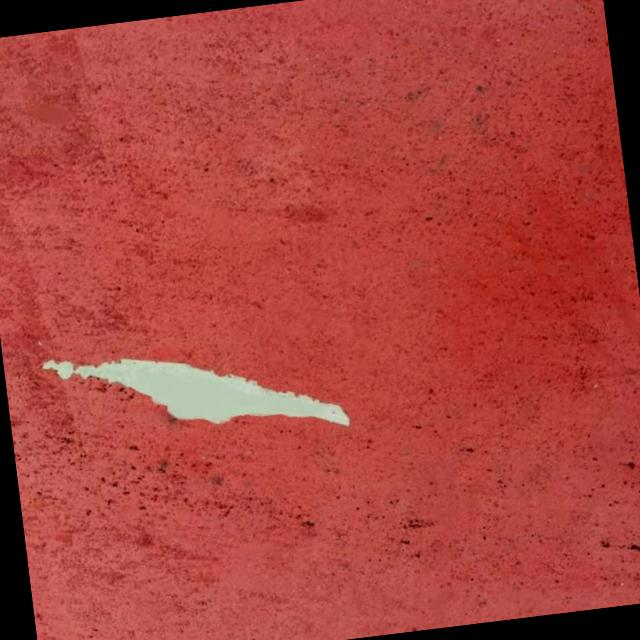surface_peeling: (34, 314, 358, 466)
